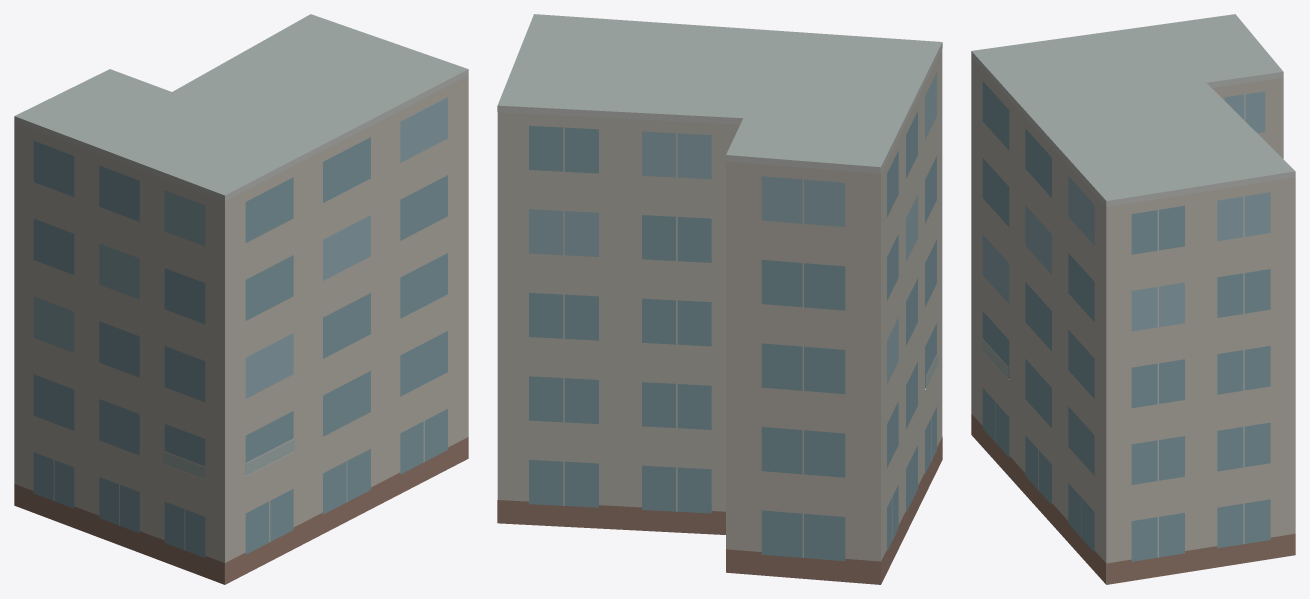
The model's file is survey-upis-32986404.glb.
3 views of the same model, side by side, from view 1: azimuth 30°, elevation 25°; view 2: azimuth 150°, elevation 25°; view 3: azimuth 270°, elevation 25° (orthographic). The views are drawn at different scales.
Parts seen in each view (by area): view 1: survey-upis-32986404.tmp; view 2: survey-upis-32986404.tmp; view 3: survey-upis-32986404.tmp.
Part boxes in pixels (bbox=[...]): survey-upis-32986404.tmp: bbox=[14, 14, 468, 584]; survey-upis-32986404.tmp: bbox=[497, 14, 942, 584]; survey-upis-32986404.tmp: bbox=[971, 14, 1295, 584].
Size of the model in its own units: 16.42 by 15.7 by 12.03.
